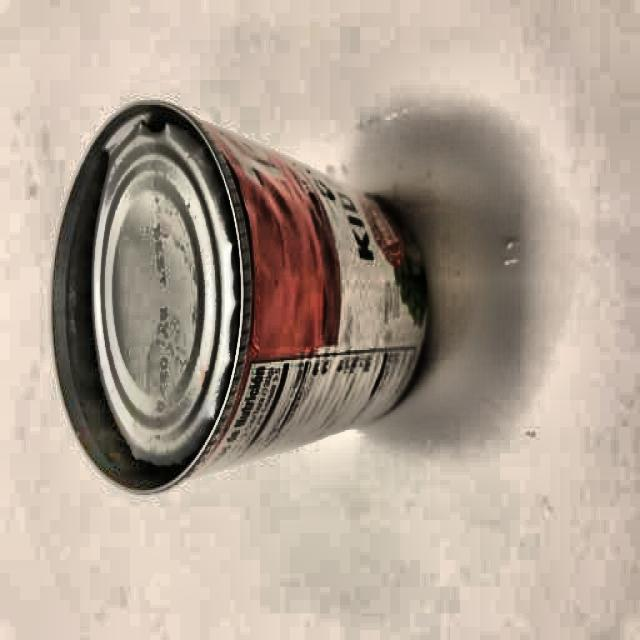metal: (49, 99, 434, 494)
